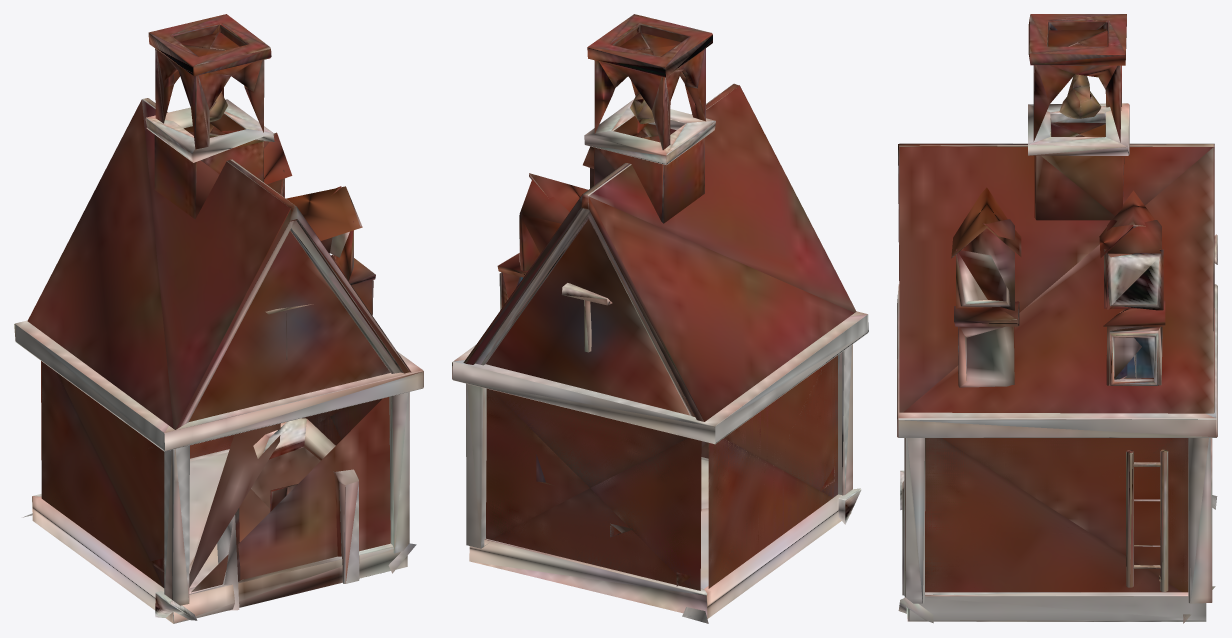
Rendered from 28-fire-station.glb.
The picture shows the model from 3 angles, left to right: view 1: azimuth 30°, elevation 25°; view 2: azimuth 150°, elevation 25°; view 3: azimuth 270°, elevation 25°; orthographic projection. The views are drawn at different scales.
Parts seen in each view (by area): view 1: geometry_0; view 2: geometry_0; view 3: geometry_0.
Boxes of the visible parts, x1,y1,x2,y2 form: geometry_0: (14, 14, 423, 623); geometry_0: (452, 14, 868, 623); geometry_0: (897, 14, 1217, 623).
Size of the model in its own units: 0.5195 by 0.9512 by 0.5235.
1 material, 1 textured.
